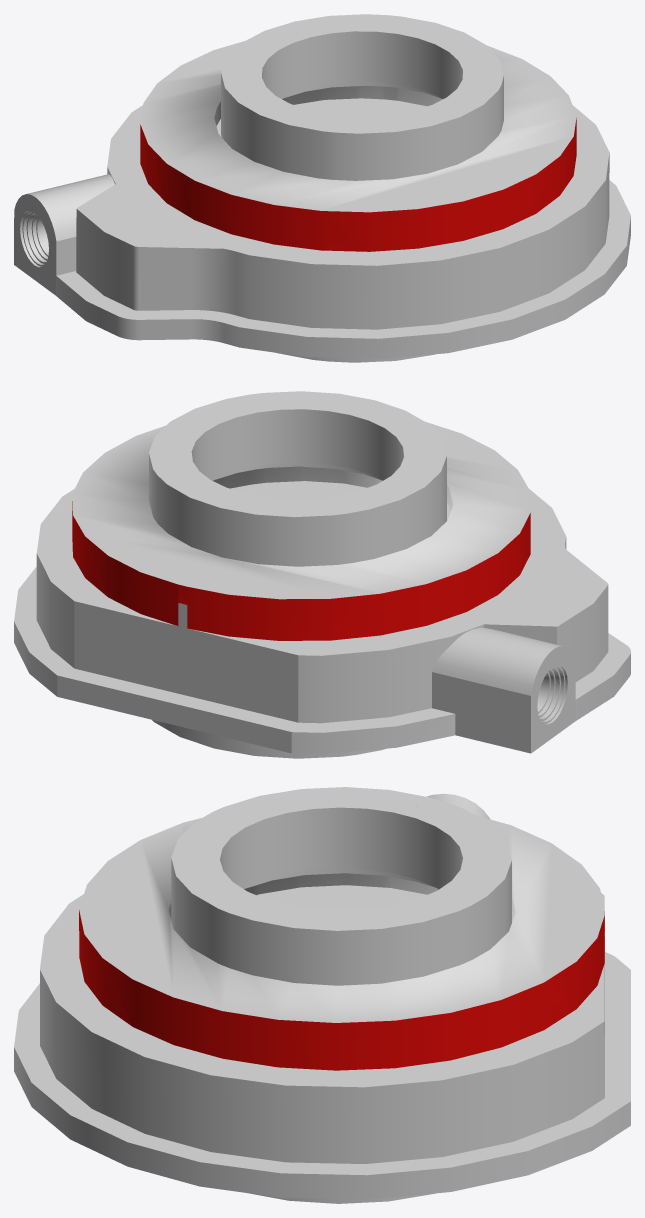
Rendered from fix_scene 2l.fbx.
3 renders of one model, top to bottom at view 1: azimuth 30°, elevation 25°; view 2: azimuth 150°, elevation 25°; view 3: azimuth 270°, elevation 25°, orthographic. The views are drawn at different scales.
Parts seen in each view (by area): view 1: 3.004, 3.005; view 2: 3.004, 3.005; view 3: 3.004, 3.005.
Part boxes in pixels (bbox=[...]): 3.004: bbox=[14, 14, 630, 362]; 3.005: bbox=[140, 41, 576, 251]; 3.004: bbox=[14, 391, 630, 758]; 3.005: bbox=[72, 421, 530, 640]; 3.004: bbox=[14, 787, 630, 1203]; 3.005: bbox=[79, 815, 605, 1070].
Bounding box in the file's own units: 242 × 98.22 × 206.
